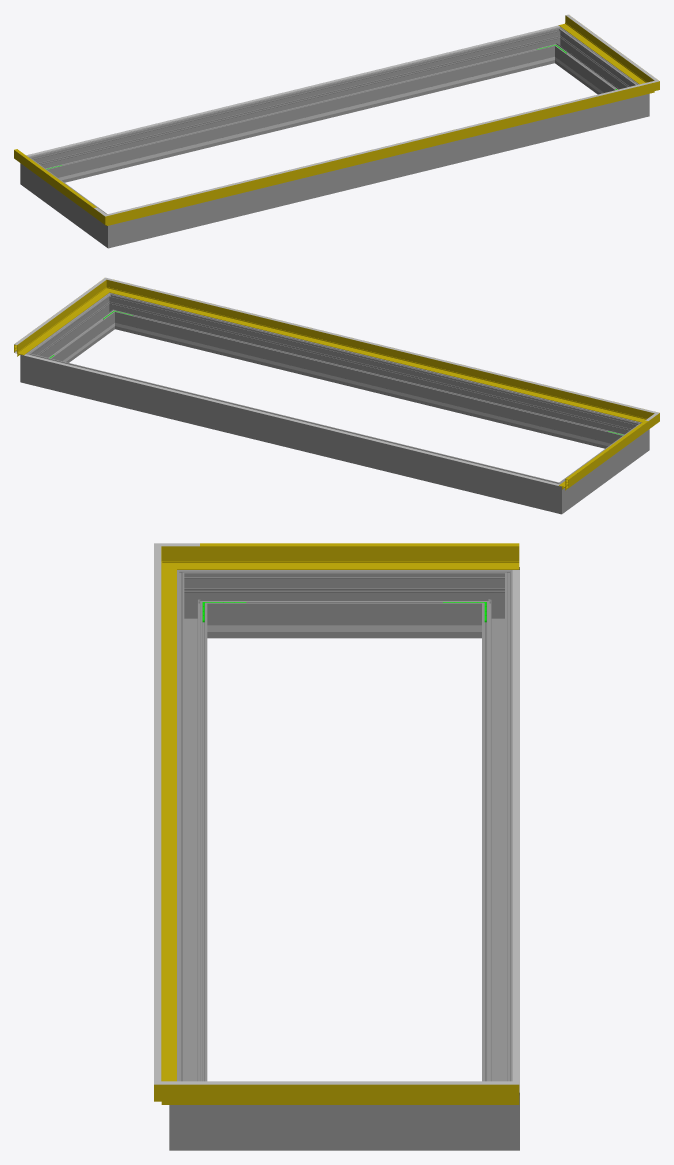
3 renders of one model, top to bottom at view 1: azimuth 30°, elevation 25°; view 2: azimuth 150°, elevation 25°; view 3: azimuth 270°, elevation 25°, orthographic. The views are drawn at different scales.
Visible parts, largest first — view 1: 3DGeom-278, 3DGeom-300, 3DGeom-56, 3DGeom-299, 3DGeom-246, 3DGeom-270, 3DGeom-222, 3DGeom-58, 3DGeom-66, 3DGeom-50, 3DGeom-272, 3DGeom-286 (+2 smaller); view 2: 3DGeom-300, 3DGeom-278, 3DGeom-56, 3DGeom-299, 3DGeom-241, 3DGeom-270, 3DGeom-222, 3DGeom-58, 3DGeom-66, 3DGeom-280, 3DGeom-50, 3DGeom-286 (+2 smaller); view 3: 3DGeom-270, 3DGeom-300, 3DGeom-278, 3DGeom-299, 3DGeom-56, 3DGeom-50, 3DGeom-58, 3DGeom-222, 3DGeom-66, 3DGeom-286, 3DGeom-292, 3DGeom-280 (+6 smaller).
Boxes of the visible parts, x1,y1,x2,y2 form: 3DGeom-278: (42, 31, 551, 182); 3DGeom-300: (128, 98, 629, 243); 3DGeom-56: (123, 86, 640, 221); 3DGeom-299: (556, 34, 634, 94); 3DGeom-246: (65, 61, 535, 179); 3DGeom-270: (32, 163, 102, 239); 3DGeom-222: (26, 25, 559, 156); 3DGeom-58: (558, 15, 645, 83); 3DGeom-66: (123, 85, 639, 211); 3DGeom-50: (14, 150, 93, 216); 3DGeom-272: (96, 211, 127, 248); 3DGeom-286: (544, 26, 569, 63); 3DGeom-300: (118, 297, 627, 448); 3DGeom-278: (40, 357, 545, 509); 3DGeom-56: (119, 284, 638, 420); 3DGeom-299: (35, 300, 112, 362); 3DGeom-241: (134, 327, 604, 445); 3DGeom-270: (567, 429, 637, 505); 3DGeom-222: (24, 354, 559, 485); 3DGeom-58: (14, 287, 103, 356); 3DGeom-66: (123, 282, 639, 409); 3DGeom-280: (542, 477, 573, 514); 3DGeom-50: (559, 421, 648, 490); 3DGeom-286: (20, 347, 43, 386); 3DGeom-270: (215, 570, 474, 638); 3DGeom-300: (177, 586, 207, 1081); 3DGeom-278: (482, 586, 512, 1081); 3DGeom-299: (215, 1105, 474, 1150); 3DGeom-56: (161, 563, 176, 1081); 3DGeom-50: (199, 546, 519, 569); 3DGeom-58: (199, 1084, 519, 1104); 3DGeom-222: (512, 570, 519, 1092); 3DGeom-66: (154, 562, 161, 1065); 3DGeom-286: (474, 1076, 519, 1150); 3DGeom-292: (169, 1076, 214, 1150); 3DGeom-280: (474, 567, 519, 638).
Size of the model in its own units: 4.27 by 0.2669 by 1.22.
